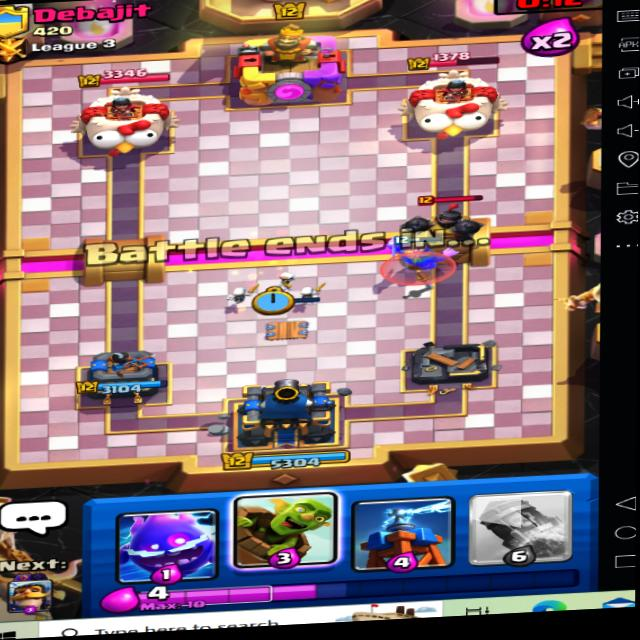mega-knight: (402, 185, 488, 264)
